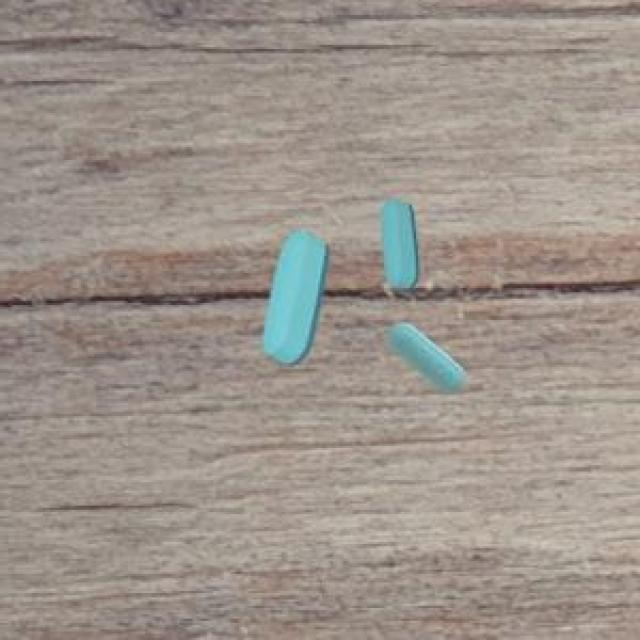Bioflu: (250, 226, 338, 372), (363, 185, 443, 307), (387, 320, 474, 412)
